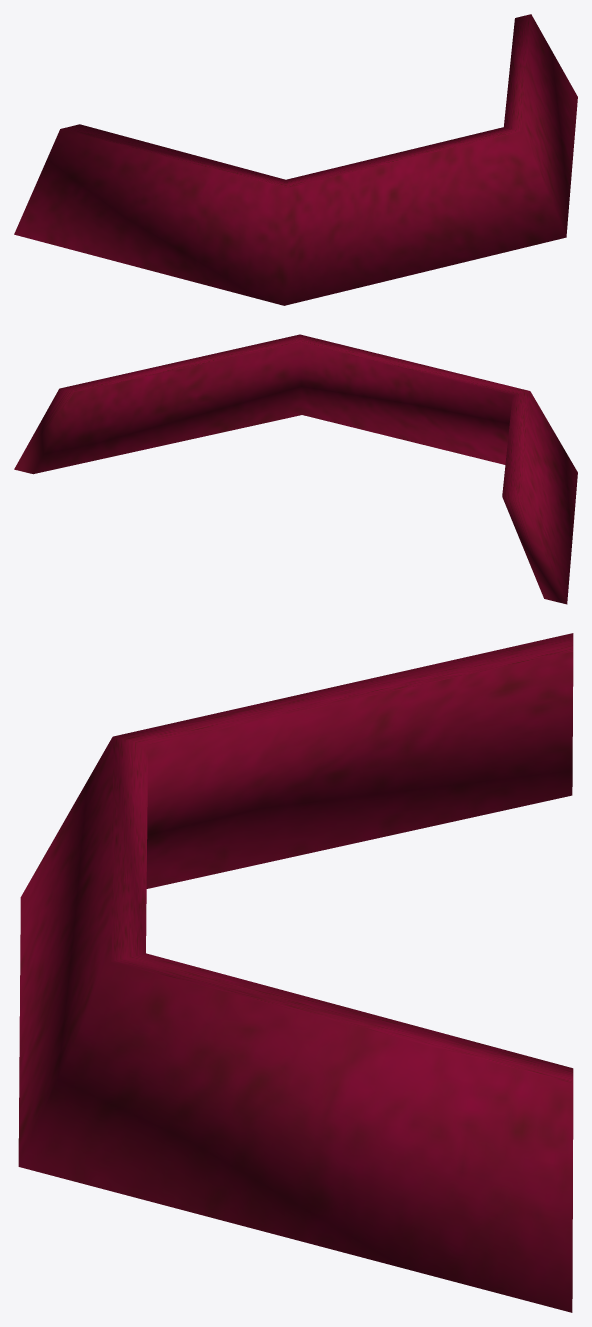
Rendered from spaceship-damaged-piece3.fbx.
The picture shows the model from 3 angles, top to bottom: view 1: azimuth 30°, elevation 25°; view 2: azimuth 150°, elevation 25°; view 3: azimuth 270°, elevation 25°; orthographic projection. The views are drawn at different scales.
Visible parts, largest first — view 1: polySurface16; view 2: polySurface16; view 3: polySurface16.
Boxes of the visible parts, x1=… form: polySurface16: x1=14, y1=14, x2=577, y2=305; polySurface16: x1=14, y1=334, x2=577, y2=604; polySurface16: x1=18, y1=633, x2=573, y2=1312.
Size of the model in its own units: 3.34 by 0.5315 by 1.45.
Materials: 1 (1 with a texture image).
